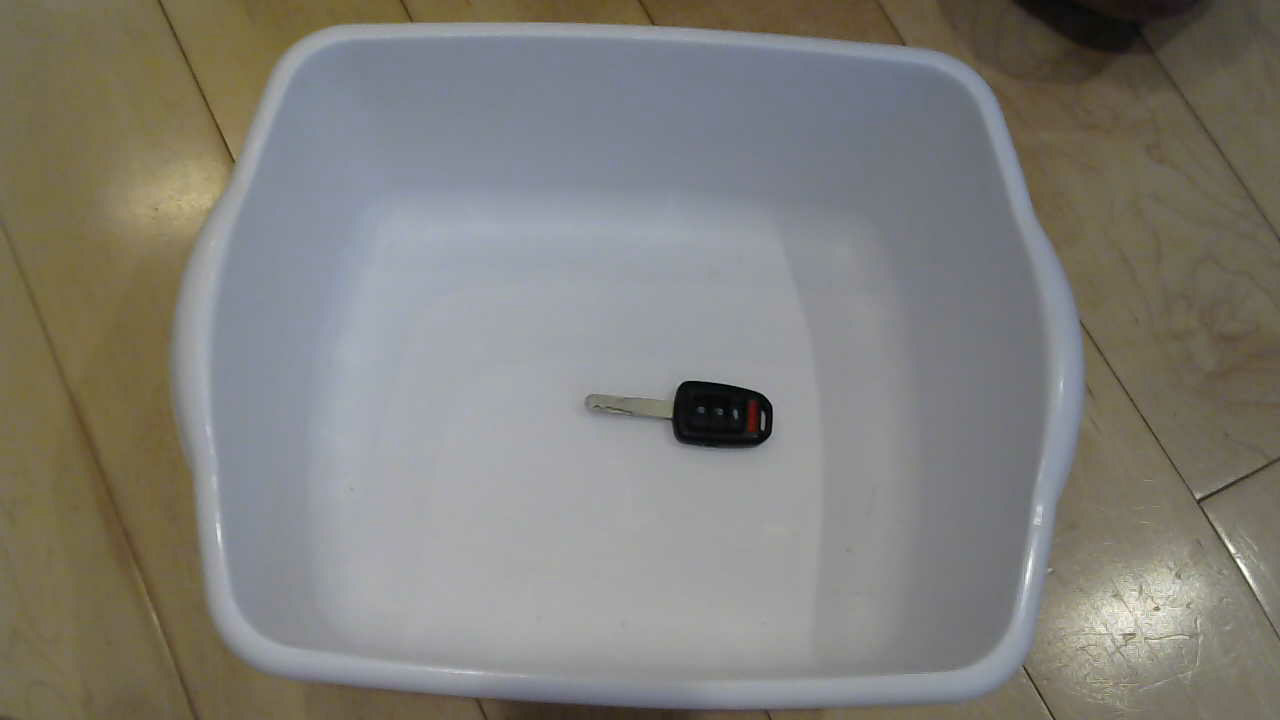key: (573, 377, 799, 478)
